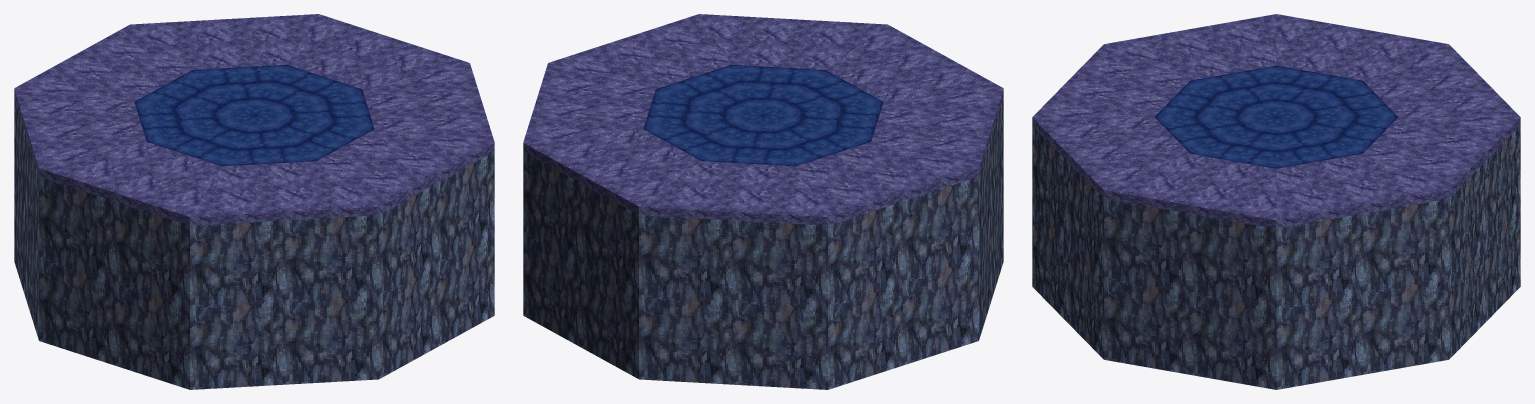
Rendered from koopa1_boss_all.obj.
3 renders of one model, left to right at view 1: azimuth 30°, elevation 25°; view 2: azimuth 150°, elevation 25°; view 3: azimuth 270°, elevation 25°, orthographic.
Parts seen in each view (by area): view 1: r0; view 2: r0; view 3: r0.
Part boxes in pixels (x1=…): r0: x1=14, y1=14, x2=494, y2=389; r0: x1=523, y1=14, x2=1003, y2=389; r0: x1=1032, y1=14, x2=1520, y2=389.
Bounding box in the file's own units: 6 × 2.3 × 6.
3 materials, 3 textured.
